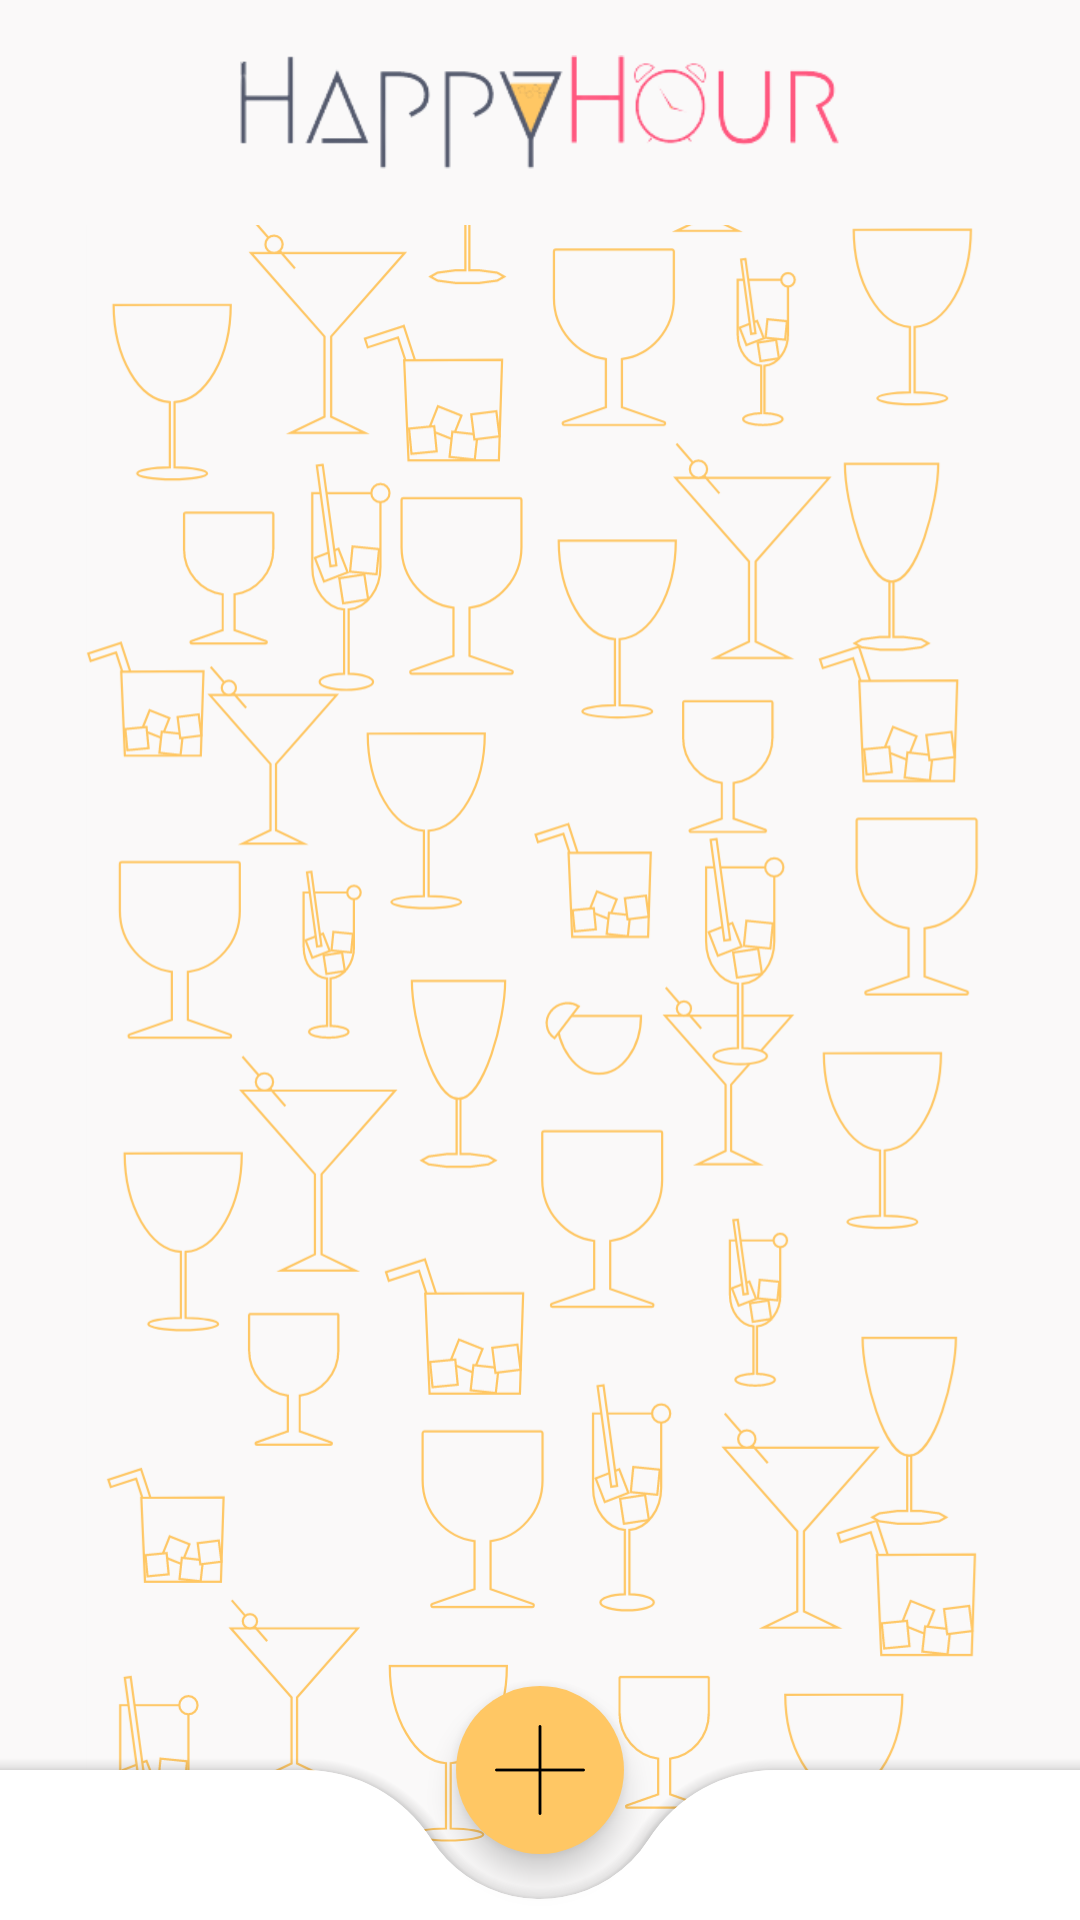

Named icons in this screenshot (1080×1920) and their bounding boxes, (x1, y1, x2, y2):
plus: (456, 1686, 624, 1854)
